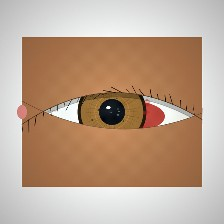hemorrhage_spot: (83, 78, 178, 154)
